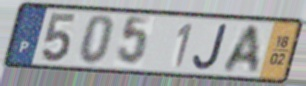0: (77, 13, 117, 67)
1: (174, 22, 194, 68)
5: (40, 11, 80, 63), (115, 15, 151, 70)
A: (219, 23, 261, 75)
J: (191, 22, 231, 73)
